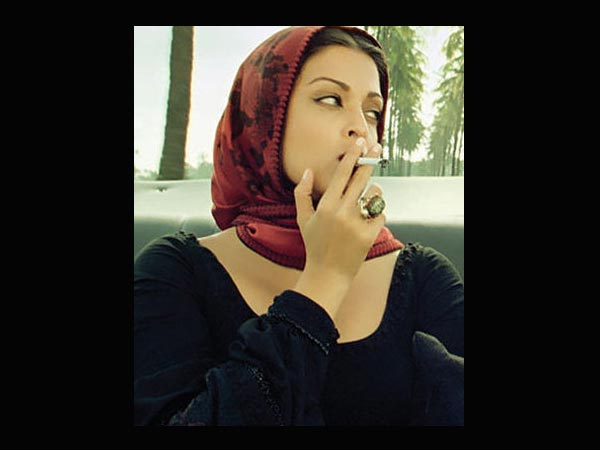cigarette: (342, 150, 388, 177)
